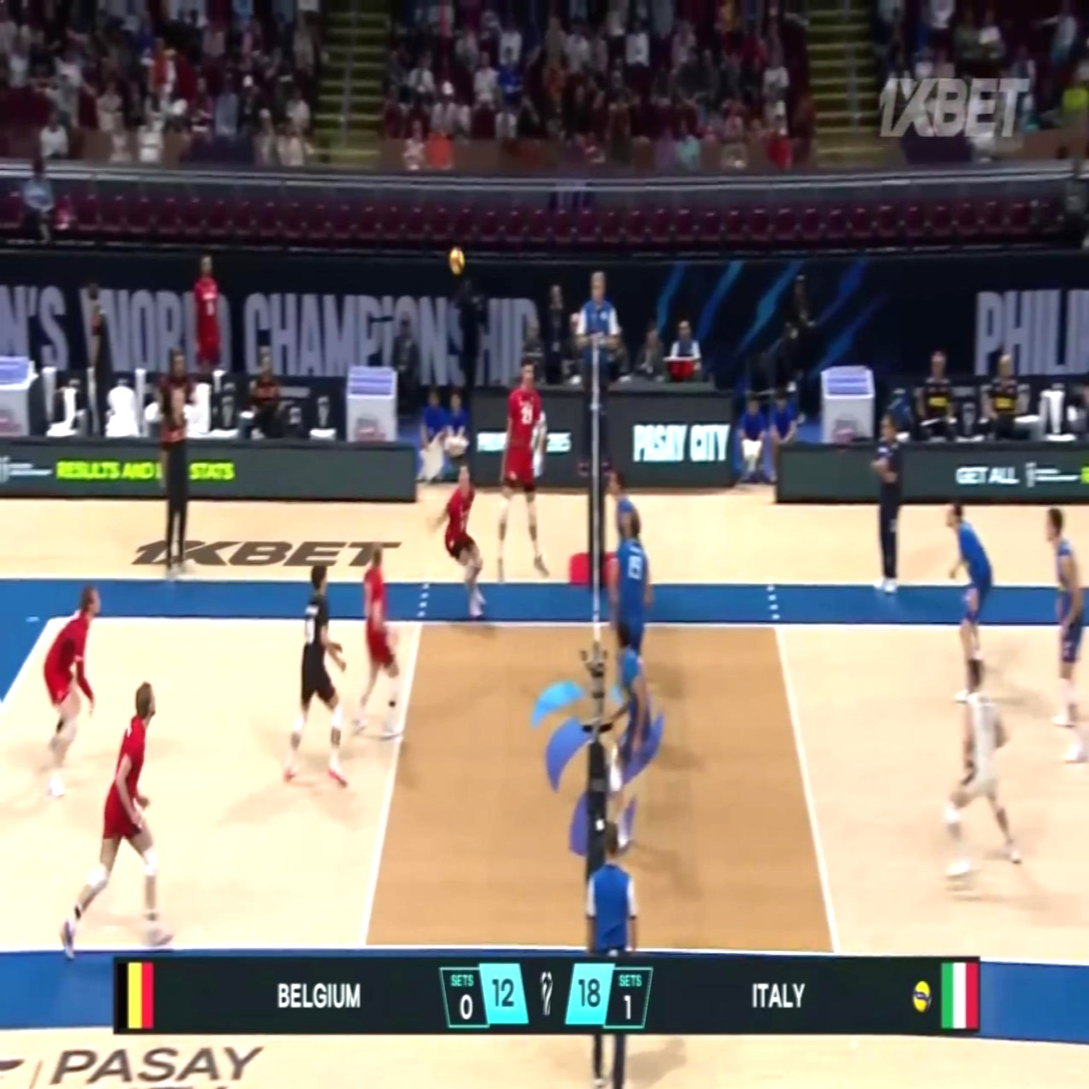ball: (448, 246, 463, 273)
